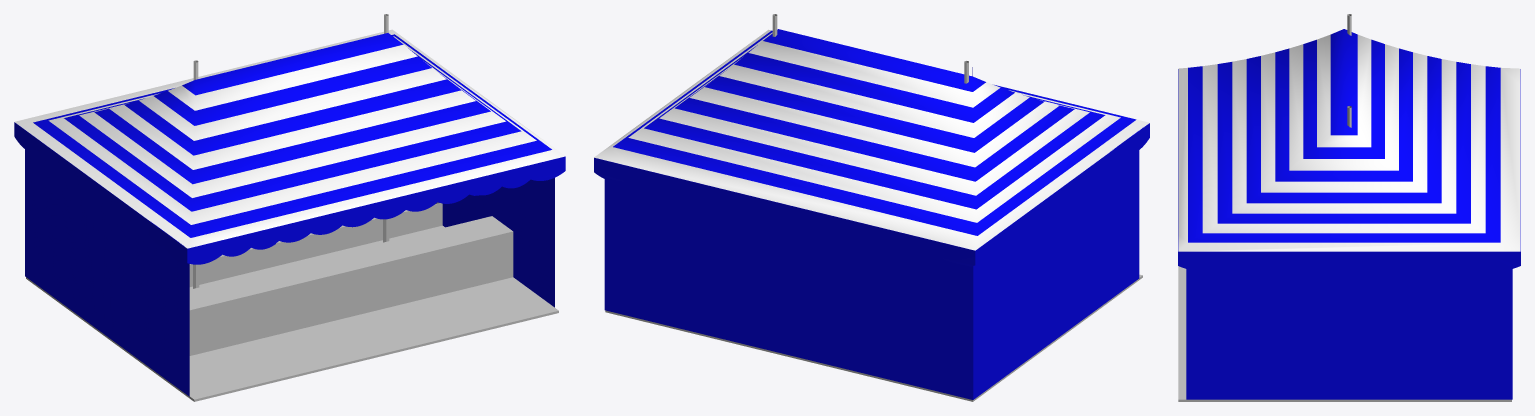
File: TubTossScenario.fbx
The picture shows the model from 3 angles, left to right: view 1: azimuth 30°, elevation 25°; view 2: azimuth 150°, elevation 25°; view 3: azimuth 270°, elevation 25°; orthographic projection.
Visible parts, largest first — view 1: Carpa3, Box016, Box021, Box019, [1584]002; view 2: Carpa3, Box021; view 3: Carpa3, Box021.
Part boxes in pixels (x1=…): Carpa3: x1=14, y1=29, x2=565, y2=396; Box016: x1=189, y1=216, x2=513, y2=355; Box021: x1=26, y1=225, x2=558, y2=401; Box019: x1=189, y1=202, x2=442, y2=286; [1584]002: x1=193, y1=14, x2=389, y2=288; Carpa3: x1=594, y1=29, x2=1149, y2=399; Box021: x1=605, y1=274, x2=1142, y2=401; Carpa3: x1=1178, y1=29, x2=1520, y2=399; Box021: x1=1178, y1=266, x2=1511, y2=401.
Bounding box in the file's own units: 519 × 335 × 411.
